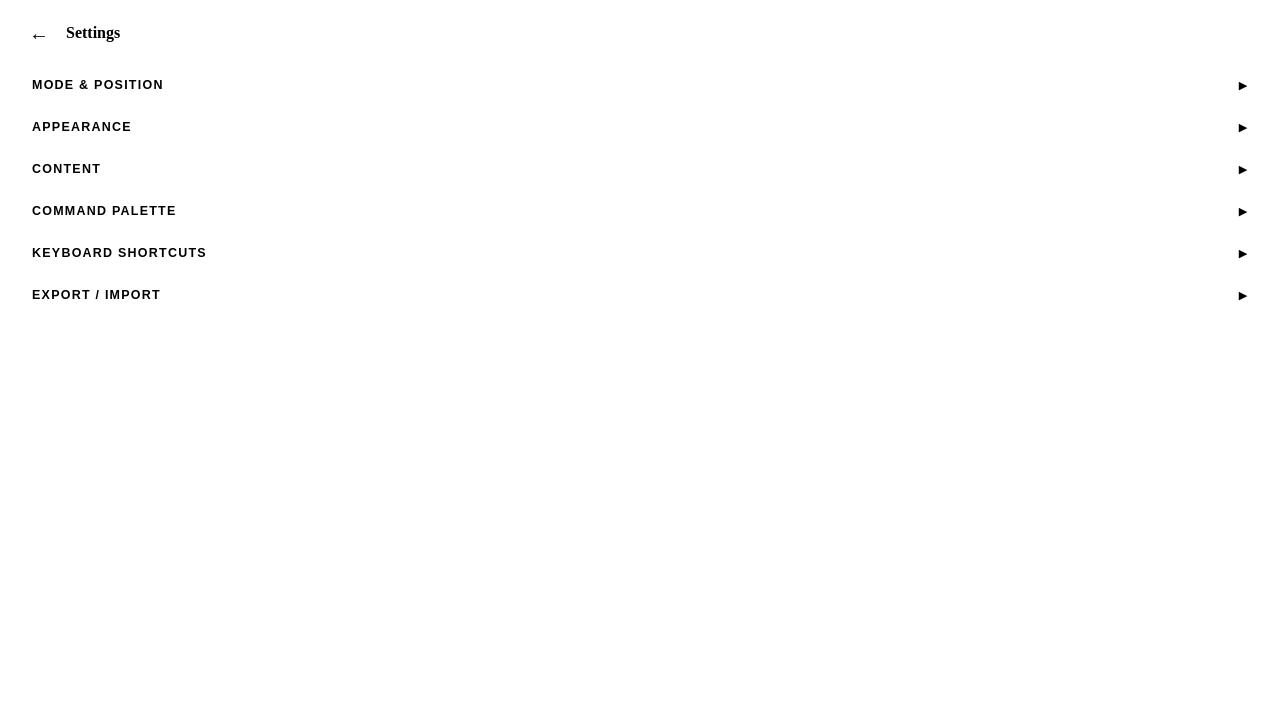
Scenario: Config › clicking Appearance header reveals its content
Step 1. Click the button "Appearance ▶" → coordinates (82, 127), box [20,110,1260,144]
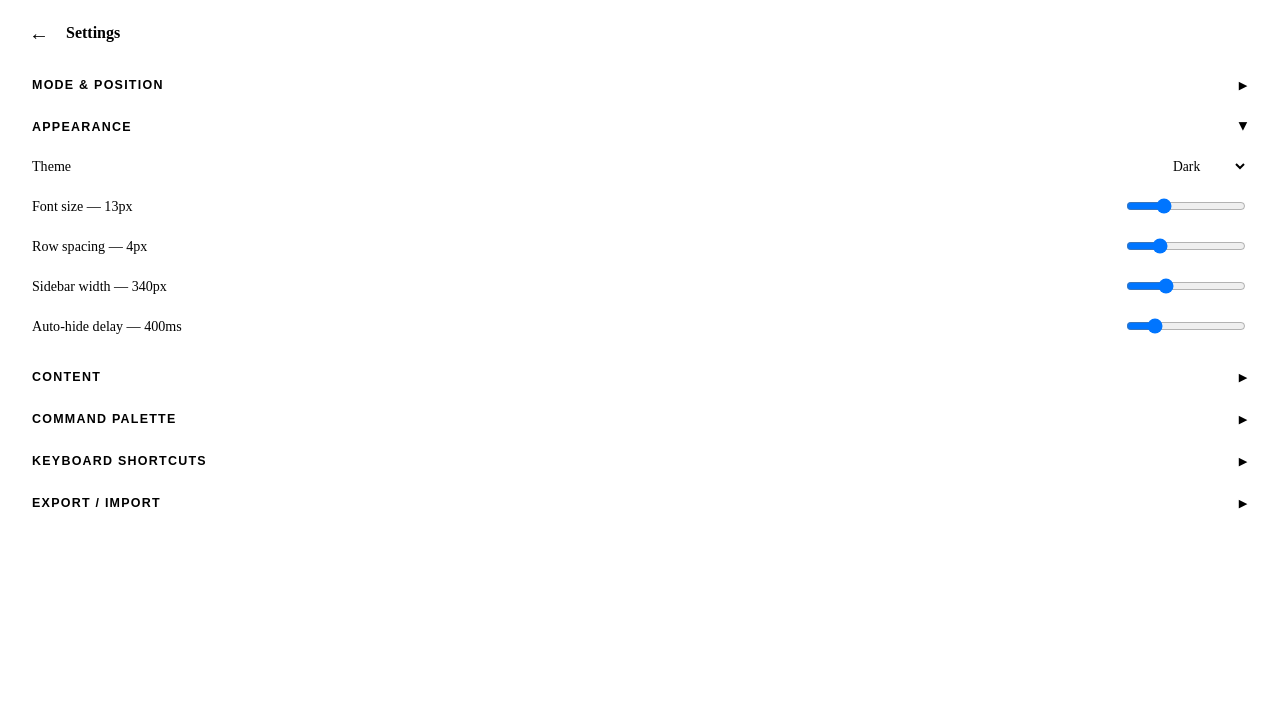
Now the text "Font size — 13px" is shown, box [32,198,132,214]
Now the text "Row spacing — 4px" is shown, box [32,238,147,254]
